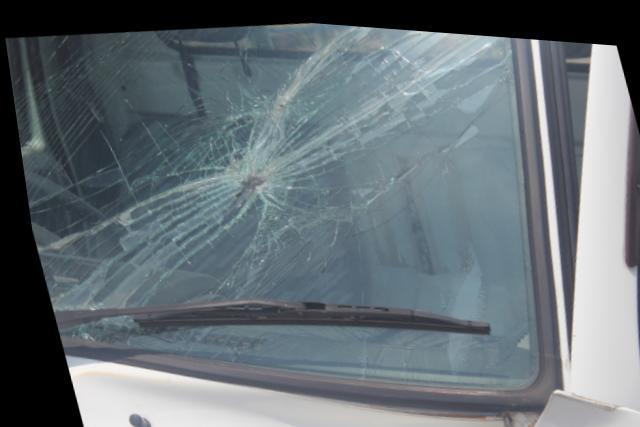glass shatter: (4, 18, 527, 380)
